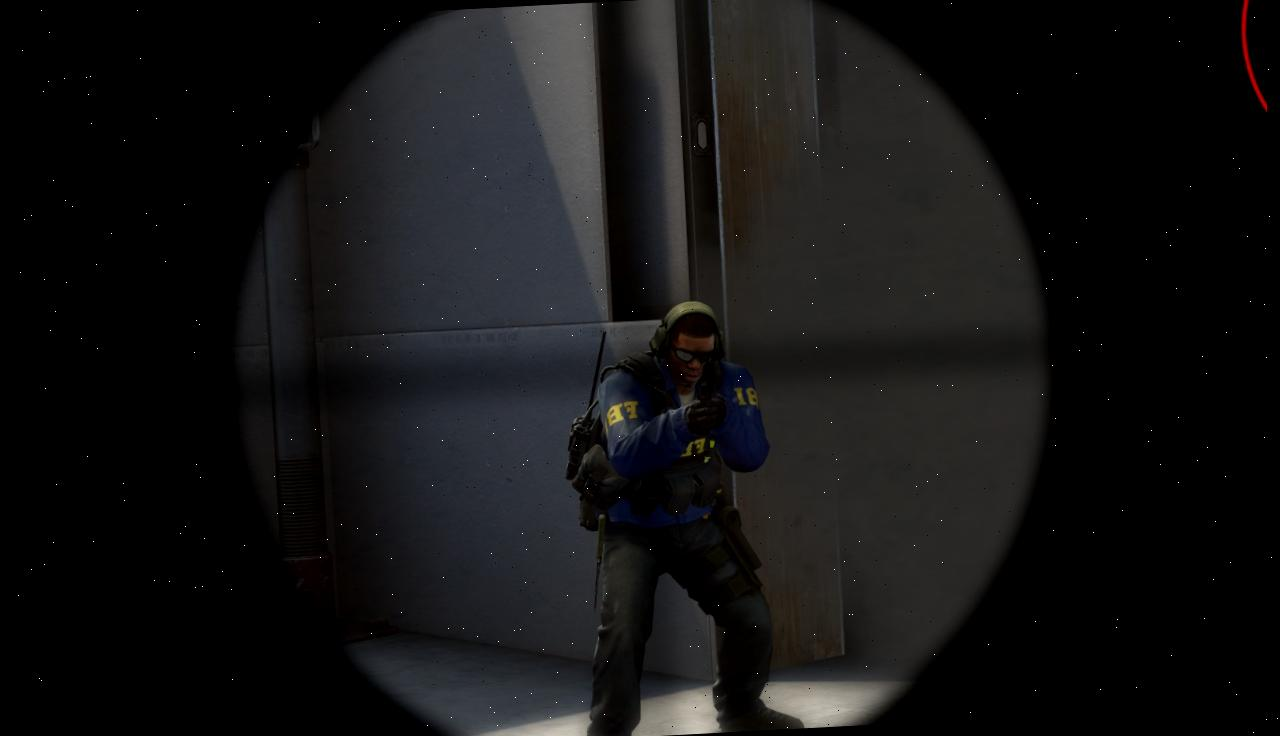ct: (559, 308, 811, 736)
cthead: (654, 299, 724, 386)
